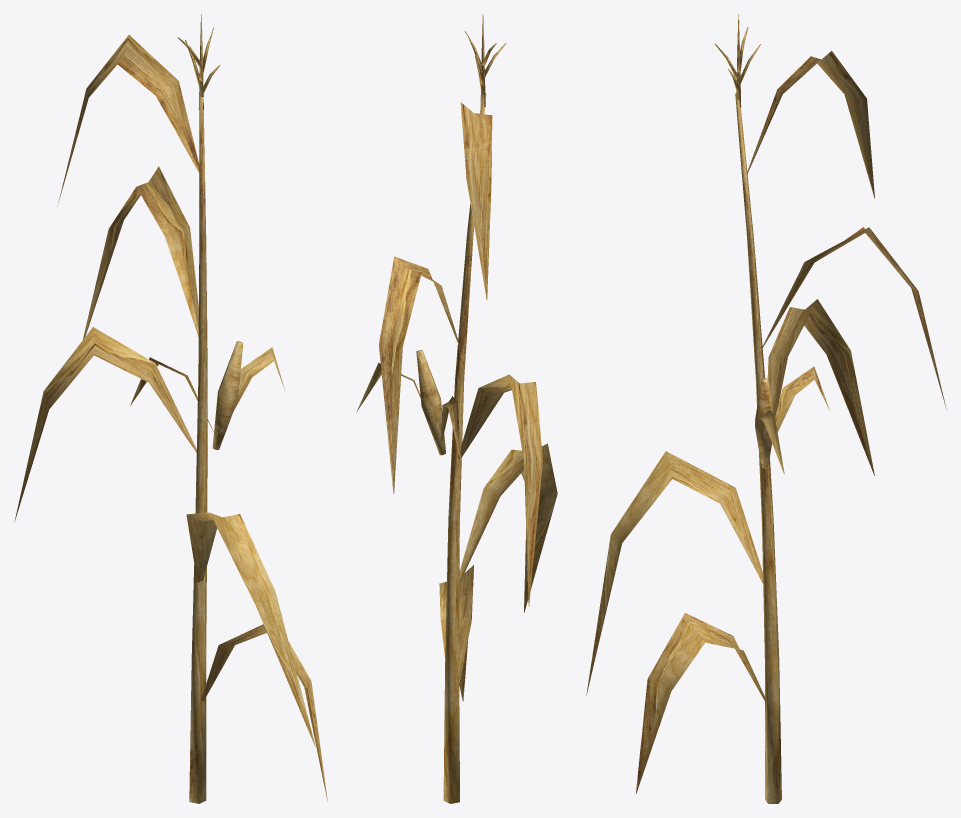
The model's file is Corn_D_Mid.fbx.
The picture shows the model from 3 angles, left to right: view 1: azimuth 30°, elevation 25°; view 2: azimuth 150°, elevation 25°; view 3: azimuth 270°, elevation 25°; orthographic projection. The views are drawn at different scales.
Visible parts, largest first — view 1: Corn_D_Mid; view 2: Corn_D_Mid; view 3: Corn_D_Mid.
Part boxes in pixels (x1,y1,x2,y2): Corn_D_Mid: (14,14,327,803); Corn_D_Mid: (356,14,557,803); Corn_D_Mid: (586,14,946,803).
Bounding box in the file's own units: 2.34 × 8 × 3.35.
Materials: 1 (1 with a texture image).
